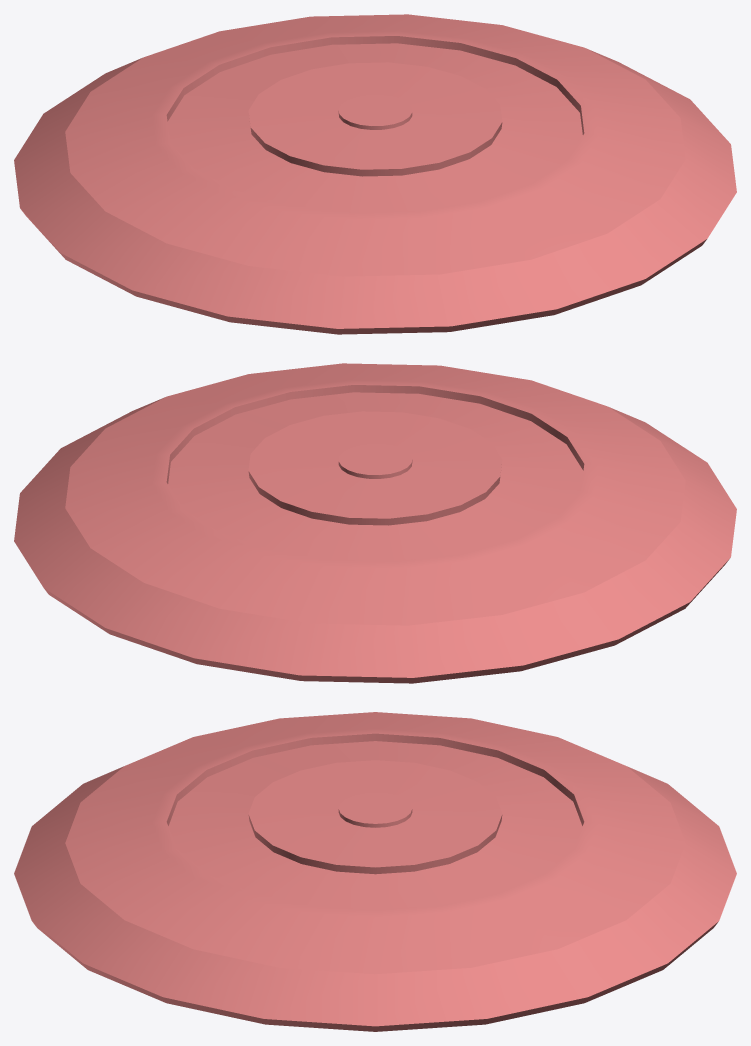
File: FrisbeeCircular.fbx
The picture shows the model from 3 angles, top to bottom: view 1: azimuth 30°, elevation 25°; view 2: azimuth 150°, elevation 25°; view 3: azimuth 270°, elevation 25°; orthographic projection.
Visible parts, largest first — view 1: frisbee_circular; view 2: frisbee_circular; view 3: frisbee_circular.
Boxes of the visible parts, x1,y1,x2,y2 form: frisbee_circular: (14, 14, 736, 334); frisbee_circular: (14, 363, 736, 683); frisbee_circular: (14, 712, 736, 1031).
Size of the model in its own units: 6.22 by 0.6961 by 6.22.
